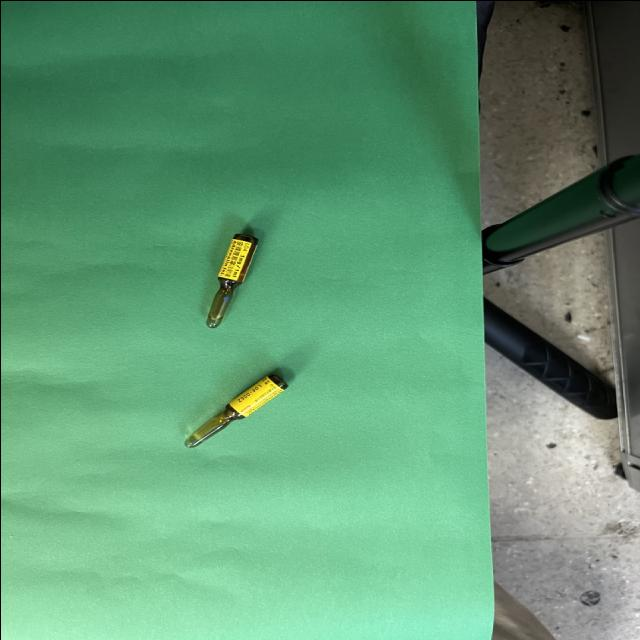Ampoules: (185, 373, 287, 447), (206, 233, 257, 327)
